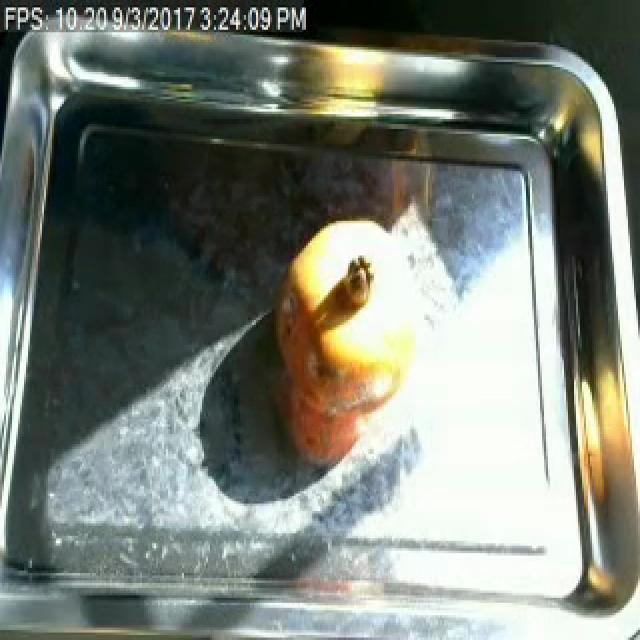fruit: (258, 206, 434, 432)
